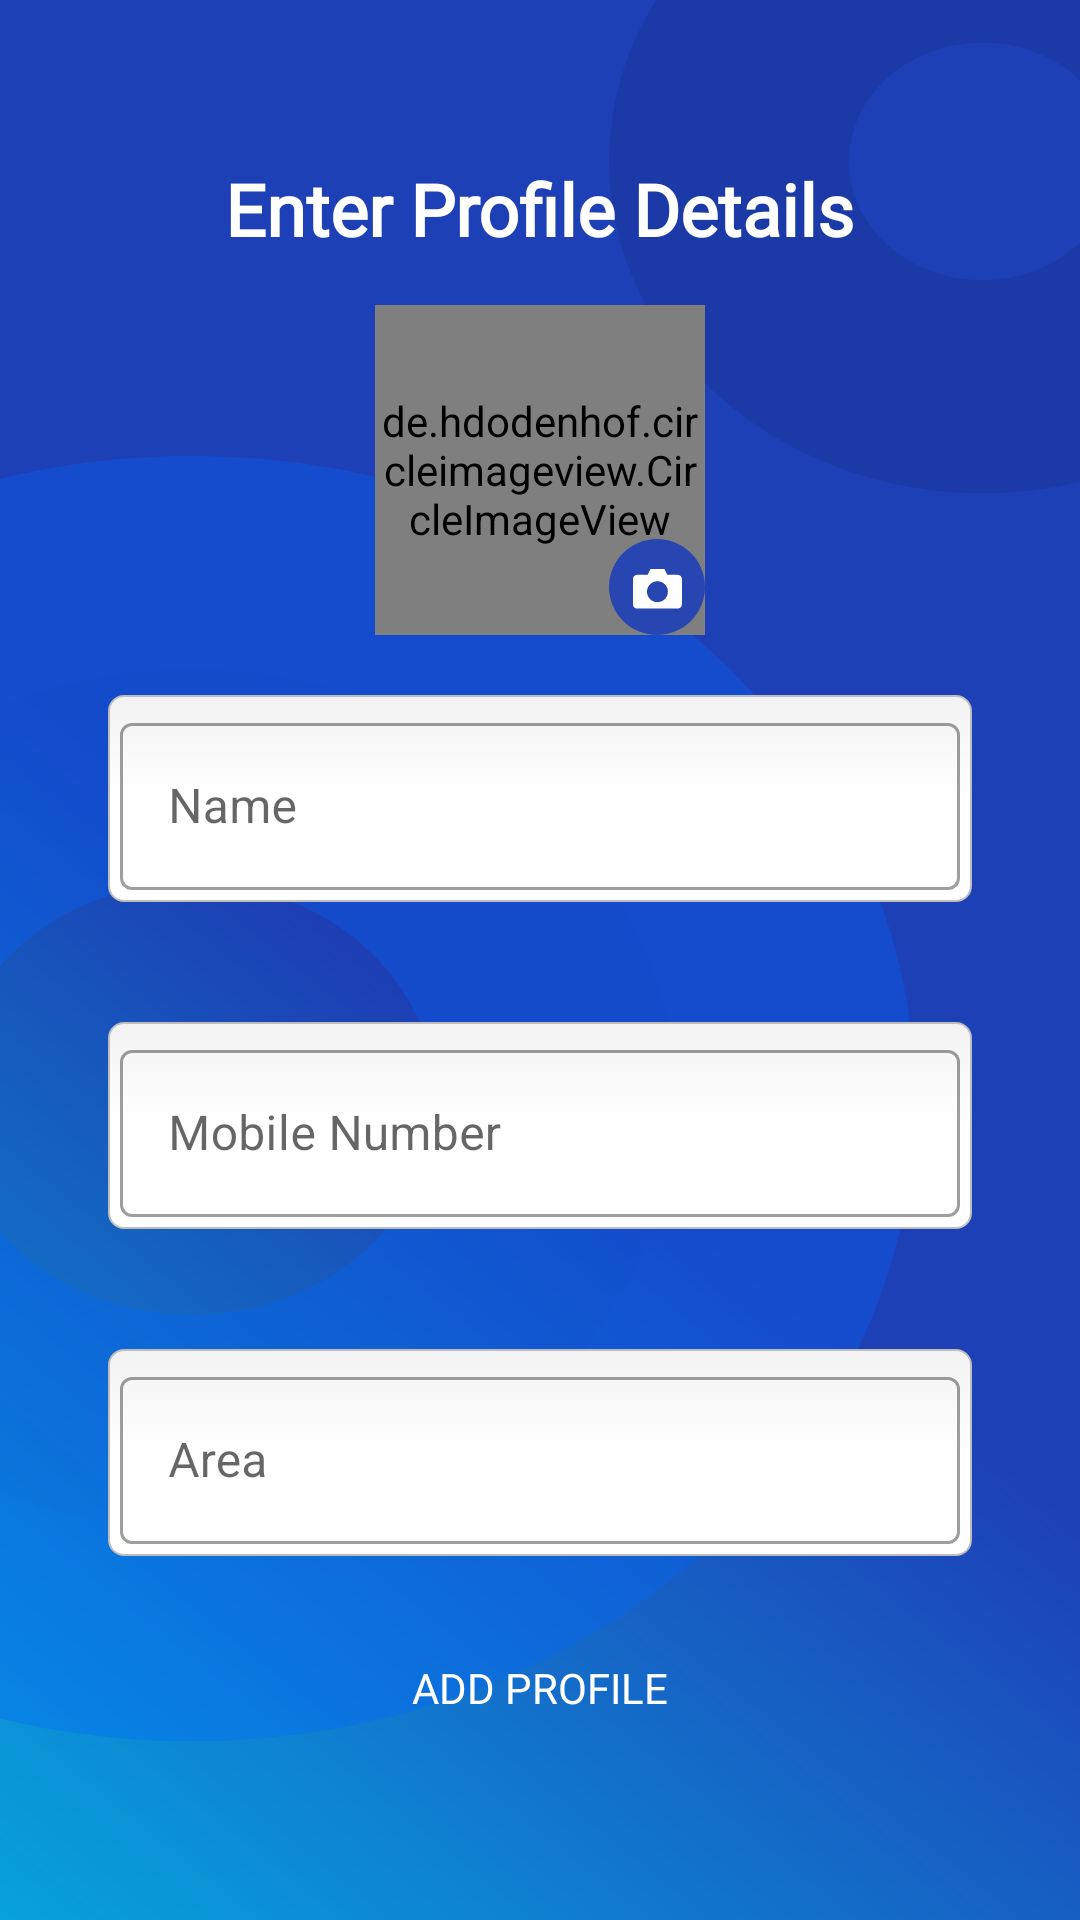

Screen size 1080*1920. Icon name, then its center in pixels as (x,y):
camera: (657,587)
